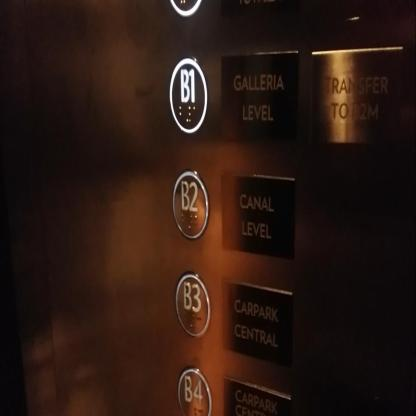B1: (167, 55, 209, 135)
B2: (170, 168, 209, 242)
B3: (174, 270, 210, 338)
B4: (176, 365, 212, 416)
